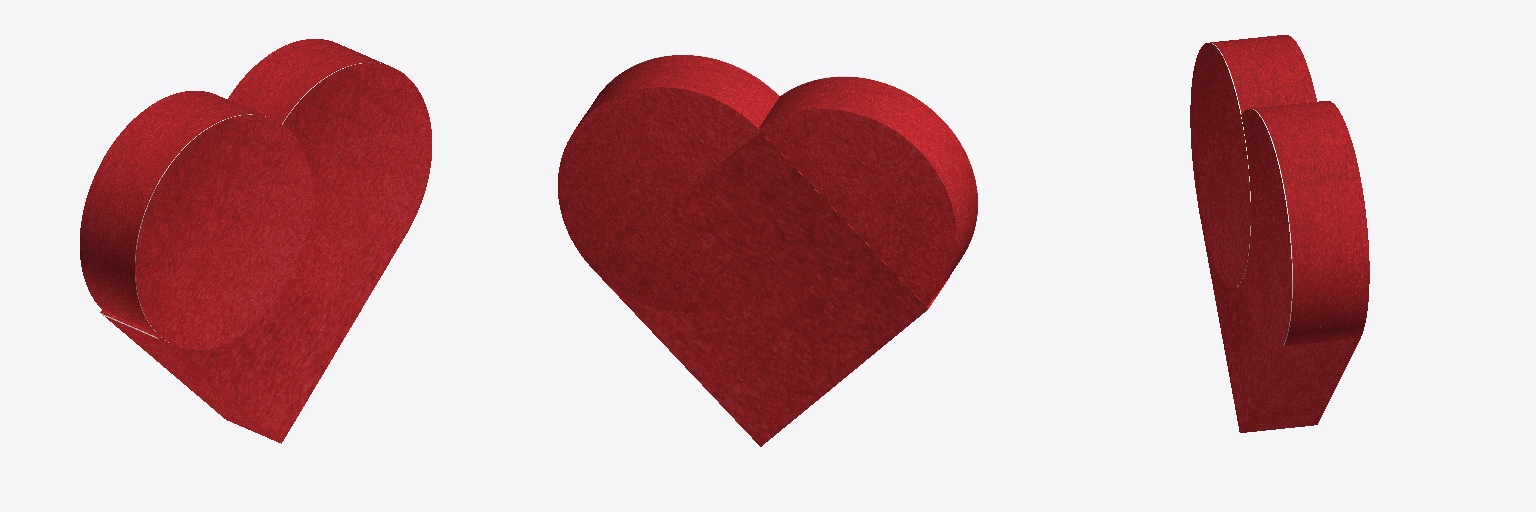
3 renders of one model, left to right at view 1: azimuth 30°, elevation 25°; view 2: azimuth 150°, elevation 25°; view 3: azimuth 270°, elevation 25°, orthographic.
Parts seen in each view (by area): view 1: center_立方体.001; view 2: center_立方体.001; view 3: center_立方体.001.
Boxes of the visible parts, <box> form: center_立方体.001: <box>80,39,431,443</box>; center_立方体.001: <box>558,55,977,446</box>; center_立方体.001: <box>1190,35,1369,432</box>.
Bounding box in the file's own units: 3.41 × 3.12 × 1.45.
3 materials, 1 textured.